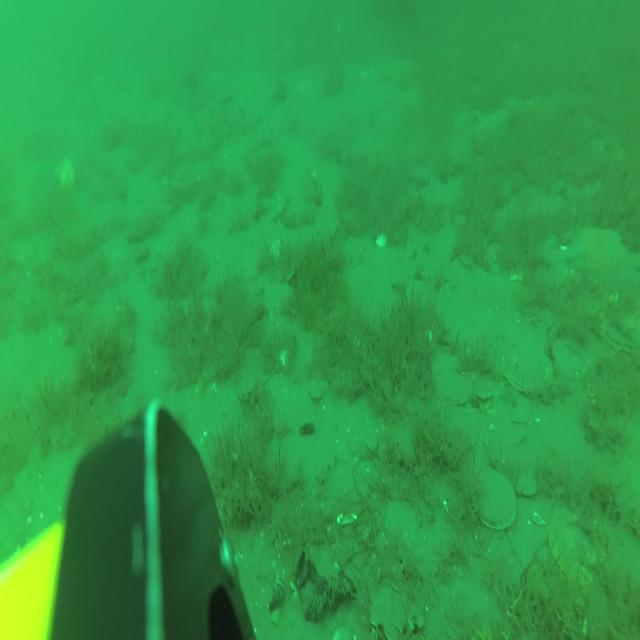scallop: (547, 504, 595, 582), (472, 469, 516, 529), (505, 345, 552, 395), (601, 310, 640, 353), (554, 340, 588, 380), (437, 367, 472, 405), (263, 280, 292, 314), (53, 157, 75, 191), (344, 237, 368, 264), (518, 472, 538, 496), (308, 378, 328, 402), (478, 385, 492, 403)
starfish: (567, 224, 625, 280), (330, 626, 353, 640)
